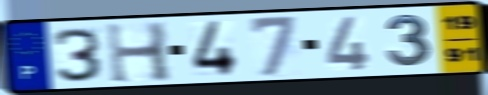3: (51, 26, 105, 83), (383, 12, 433, 70)
4: (190, 19, 240, 79), (324, 14, 372, 72)
7: (247, 13, 300, 79)
H: (103, 20, 175, 85)
